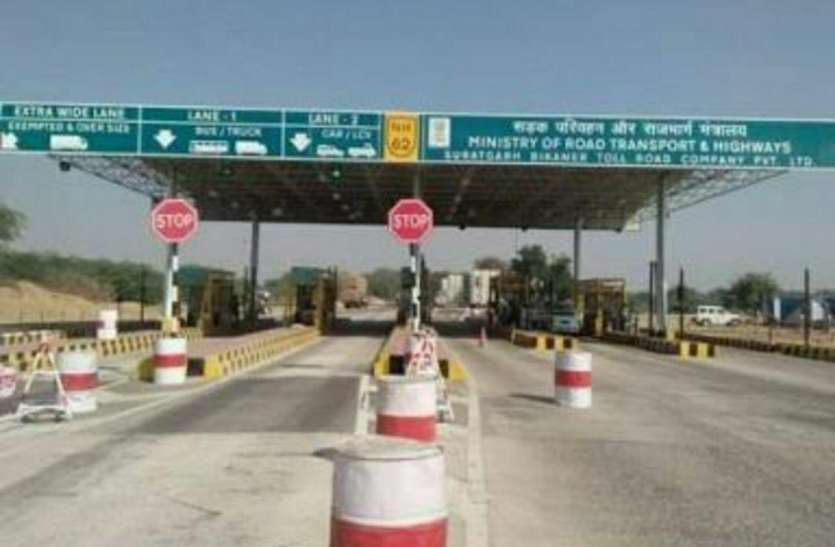toll plaza: (12, 93, 835, 166)
